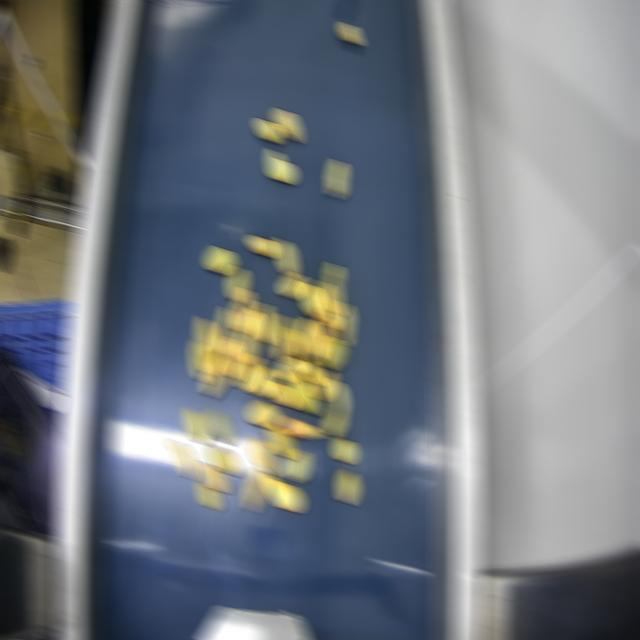Baby Potato: (263, 475, 302, 511), (237, 309, 262, 362), (287, 373, 318, 414), (325, 381, 346, 435), (203, 354, 228, 396), (197, 319, 216, 373), (213, 309, 234, 355), (170, 441, 195, 479), (245, 471, 268, 511), (281, 415, 322, 437), (236, 354, 261, 390), (273, 316, 292, 361), (319, 282, 338, 327), (252, 437, 275, 474), (247, 366, 276, 395), (209, 446, 238, 475), (232, 288, 251, 332), (301, 283, 324, 319), (319, 335, 344, 368), (268, 424, 293, 457), (269, 151, 294, 183), (209, 408, 232, 442), (185, 409, 208, 443), (223, 337, 242, 378), (312, 317, 331, 357), (250, 401, 279, 427), (275, 111, 300, 141), (298, 320, 317, 358), (326, 265, 341, 313), (286, 450, 309, 481), (201, 464, 228, 490), (277, 240, 296, 276), (335, 304, 352, 344), (228, 266, 247, 301), (313, 368, 334, 399), (207, 249, 234, 273), (268, 383, 295, 407), (280, 272, 305, 297), (192, 341, 207, 382), (328, 161, 345, 197), (338, 471, 357, 503), (258, 303, 273, 343), (277, 360, 306, 380), (285, 328, 304, 358), (256, 120, 281, 142), (301, 359, 322, 383), (200, 483, 219, 509), (249, 238, 276, 256), (334, 440, 355, 462), (341, 23, 360, 44)
